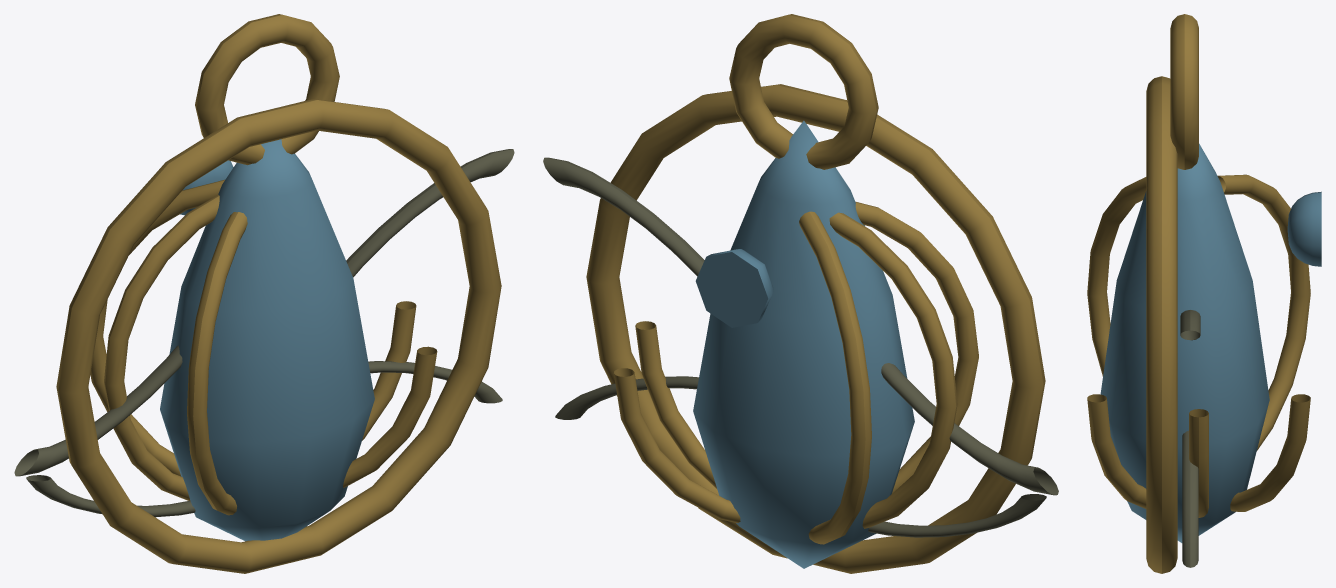
Rendered from chrysalis_sigil.obj.
3 views of the same model, side by side, from view 1: azimuth 30°, elevation 25°; view 2: azimuth 150°, elevation 25°; view 3: azimuth 270°, elevation 25° (orthographic). The views are drawn at different scales.
Parts seen in each view (by area): view 1: chrysalis_sigil; view 2: chrysalis_sigil; view 3: chrysalis_sigil.
Boxes of the visible parts, x1,y1,x2,y2 form: chrysalis_sigil: (14,14,514,573); chrysalis_sigil: (543,14,1058,573); chrysalis_sigil: (1087,14,1321,573).
Bounding box in the file's own units: 1.98 × 2.03 × 0.8217.
